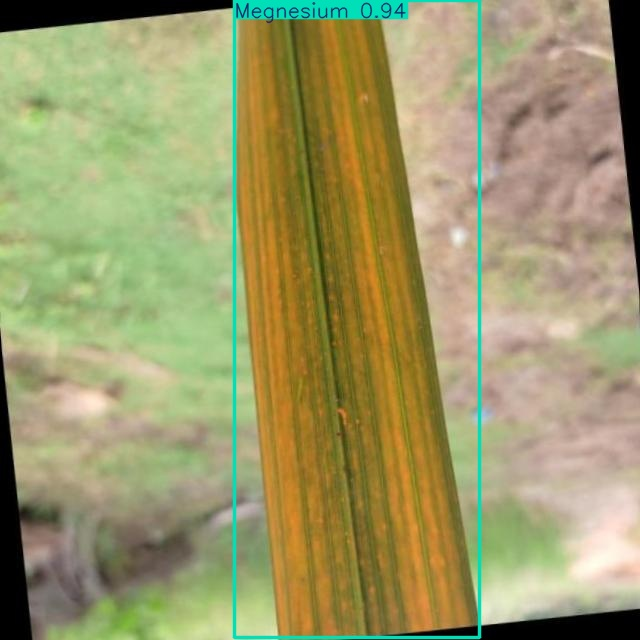Megnesium: (234, 0, 480, 637)
